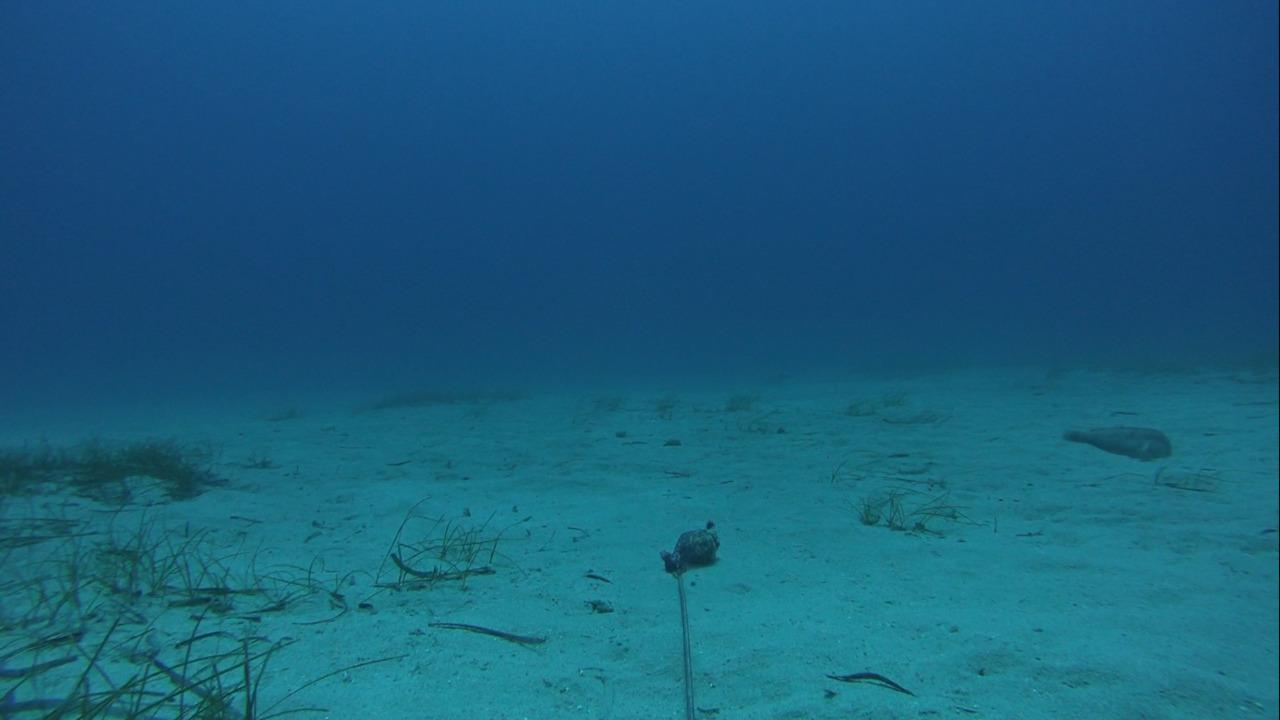raor: (1055, 421, 1173, 460)
